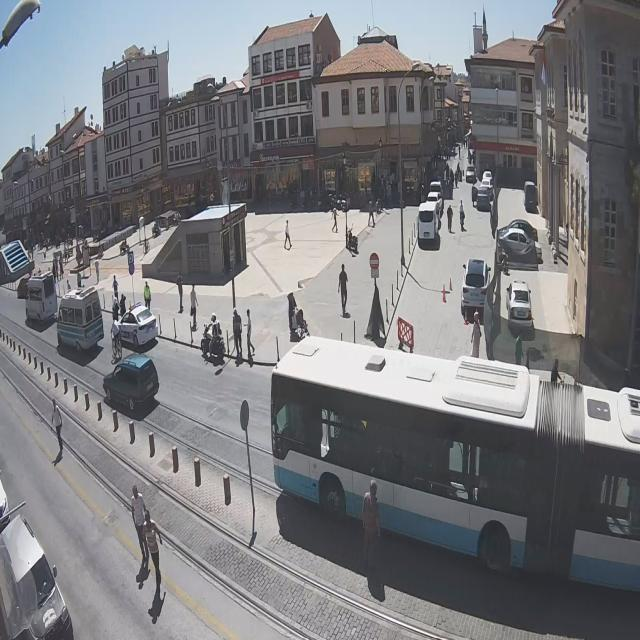Bus: (264, 351, 640, 578)
Car: (98, 357, 162, 410), (452, 261, 492, 322), (114, 308, 161, 346), (508, 279, 535, 330), (495, 231, 541, 252), (472, 186, 494, 213)
Van: (50, 289, 106, 352), (22, 270, 57, 327), (414, 205, 444, 248), (520, 176, 541, 212)
